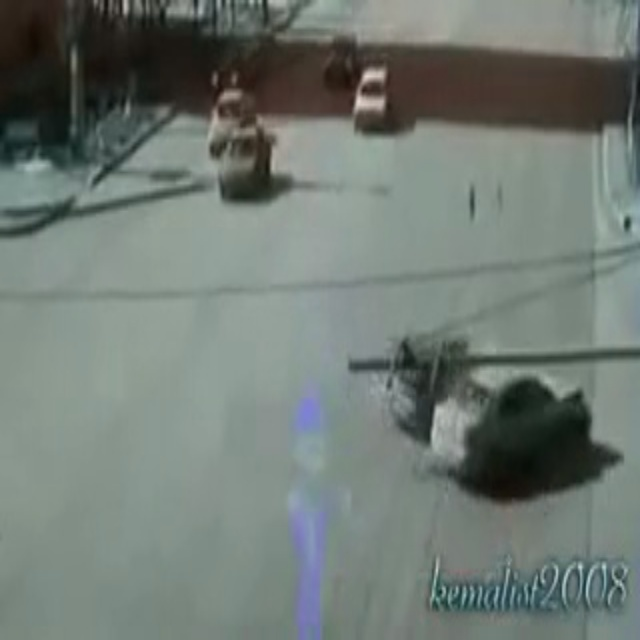acc: (379, 323, 594, 501)
